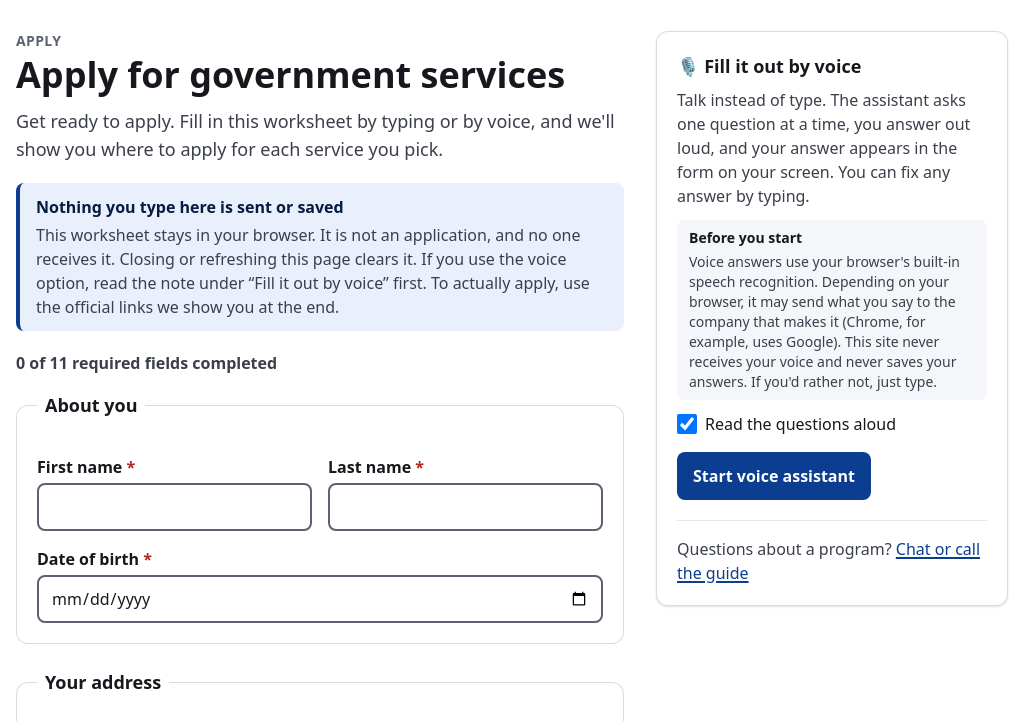
Test: <Apply /> voice assistant › explains a blocked microphone
Step 1. Click the button "Start voice assistant" → (774, 476), box [677,452,871,500]
(page scrolled)
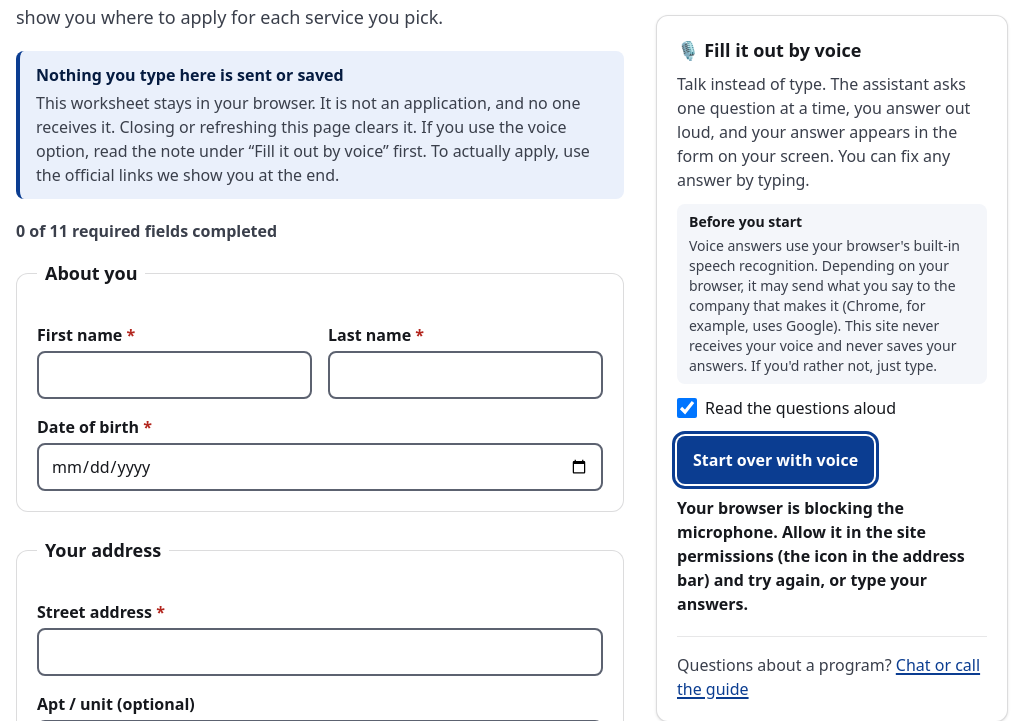
Expected: the text "browser is blocking the microphone" is shown, [677,497,965,615]
